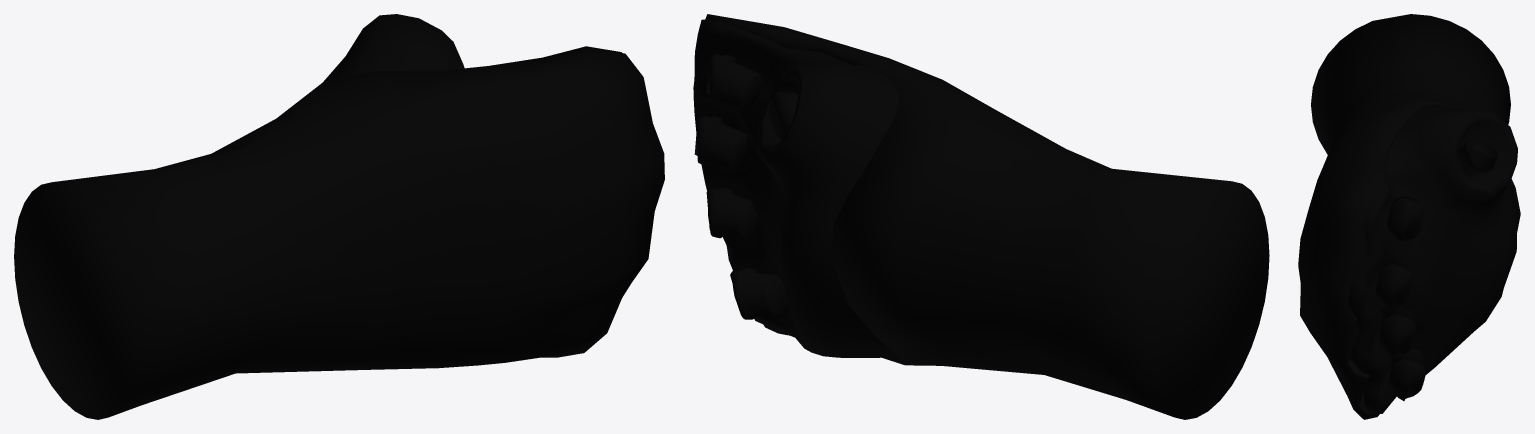
The model's file is RWristYaw.obj.
3 views of the same model, side by side, from view 1: azimuth 30°, elevation 25°; view 2: azimuth 150°, elevation 25°; view 3: azimuth 270°, elevation 25° (orthographic). The views are drawn at different scales.
Bounding box in the file's own units: 1.57 × 0.8821 × 0.6704.
